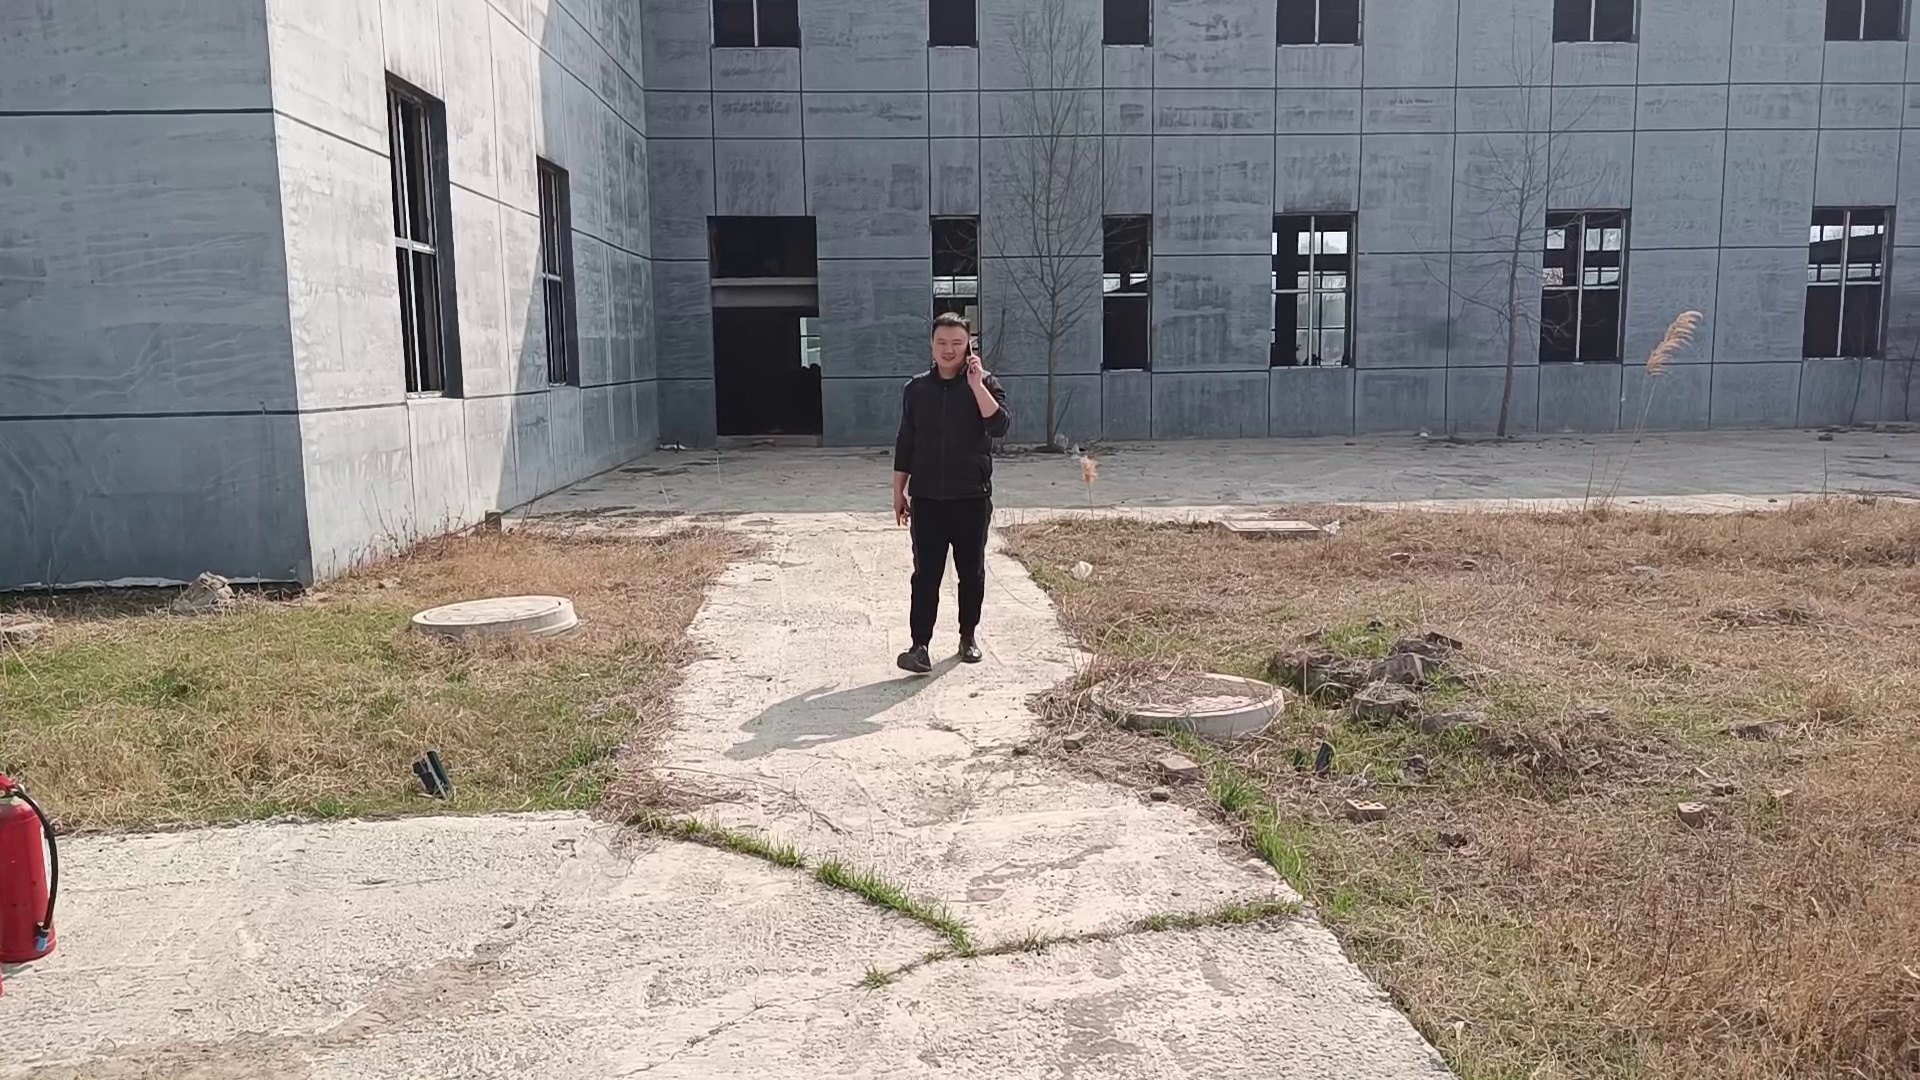phone: (919, 311, 986, 392)
